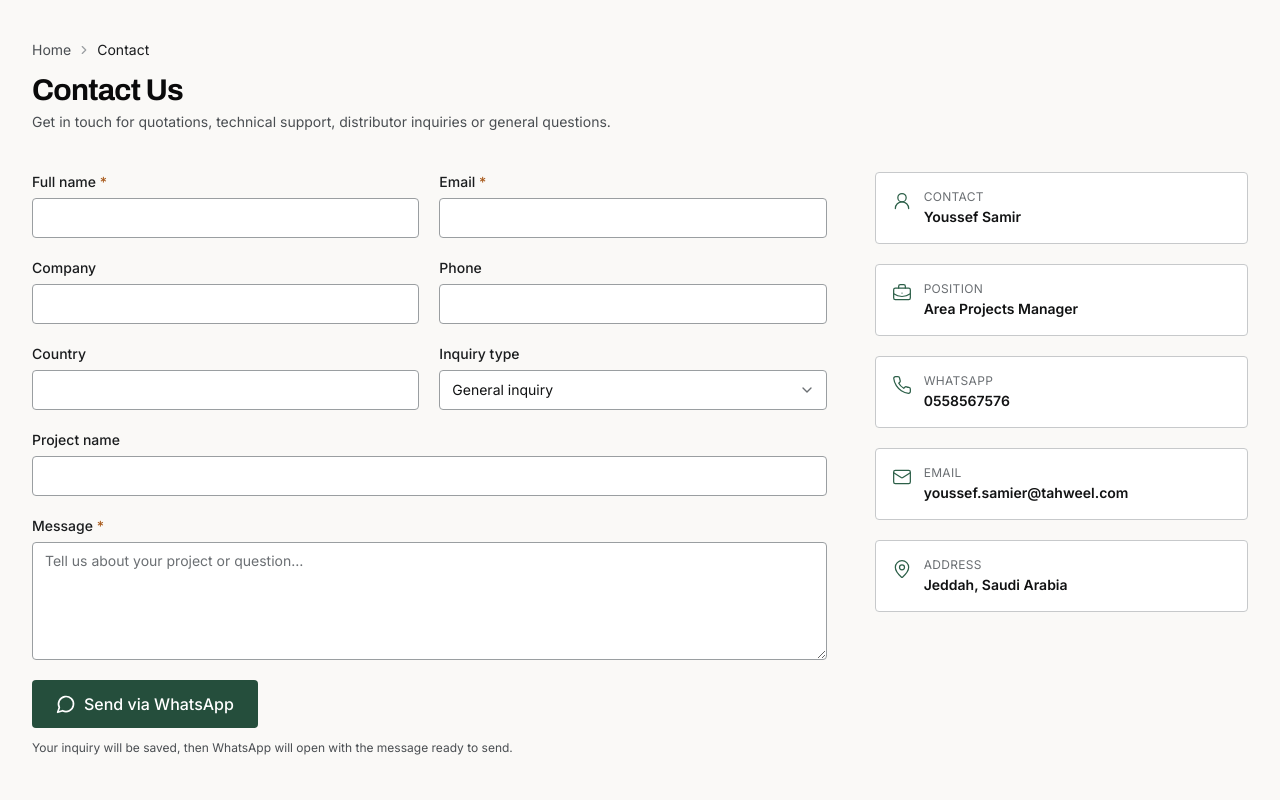
Test: ContactPage form validation › rejects an invalid email address
The image size is (1280, 800).
In the field labelled "Full name *": (226, 218) [32,198,419,238], type "Jane Engineer"
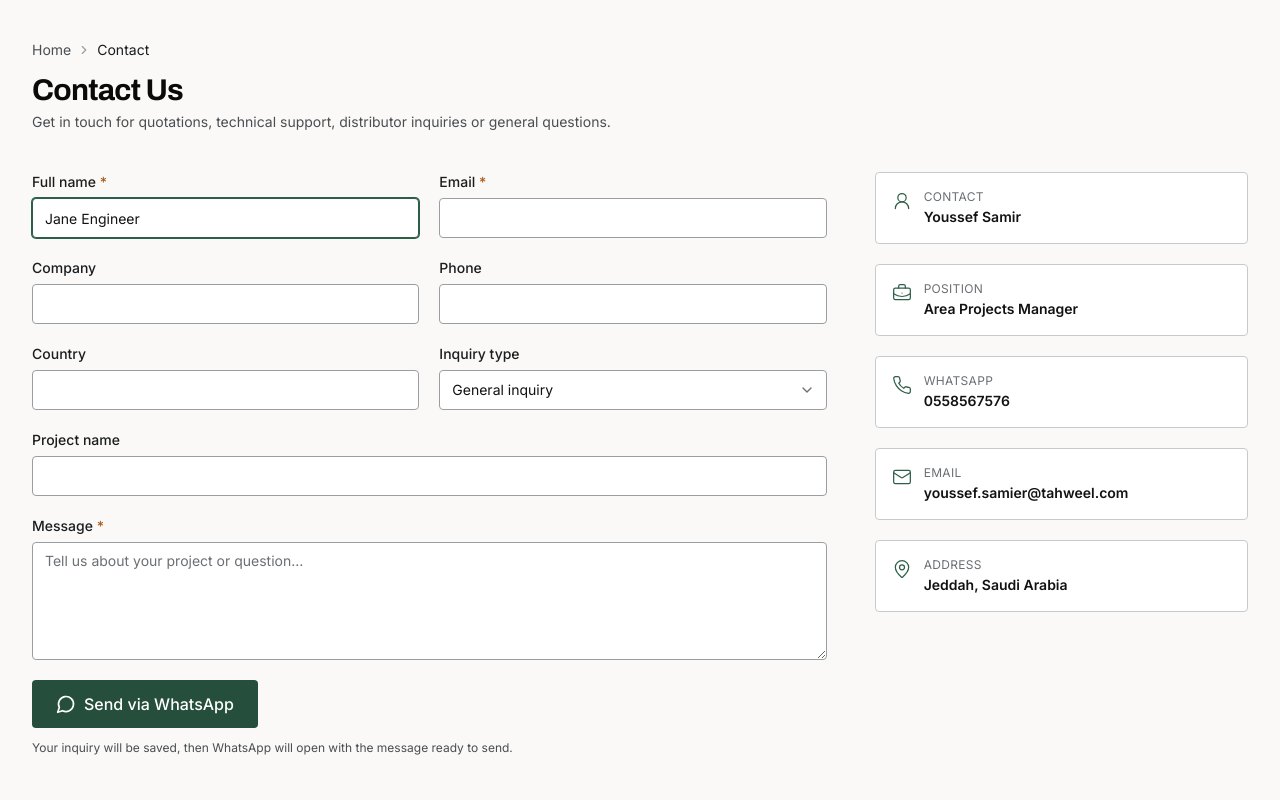
In the field labelled "Email *": (633, 218) [439,198,827,238], type "not-an-email"
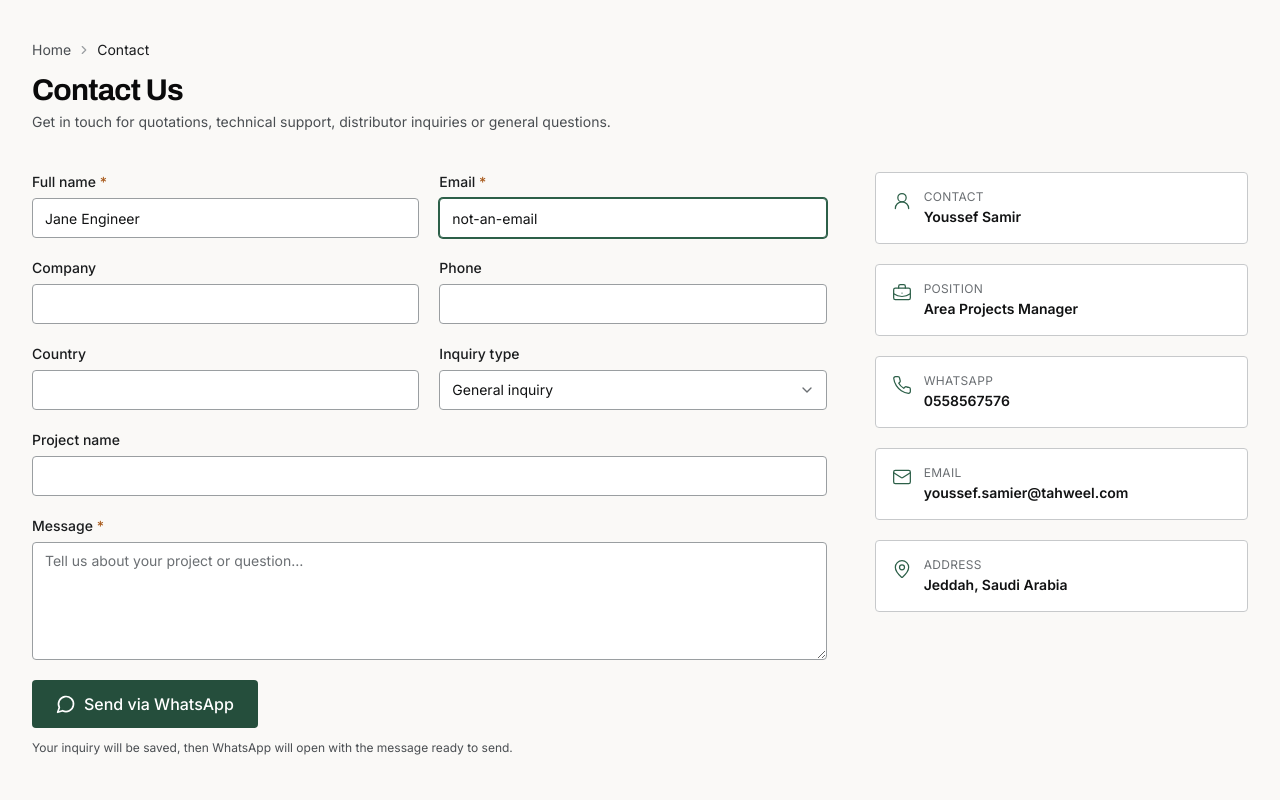
In the text box labelled "Message *": (429, 601) [32,542,827,660], type "We need pricing for a large residential project."
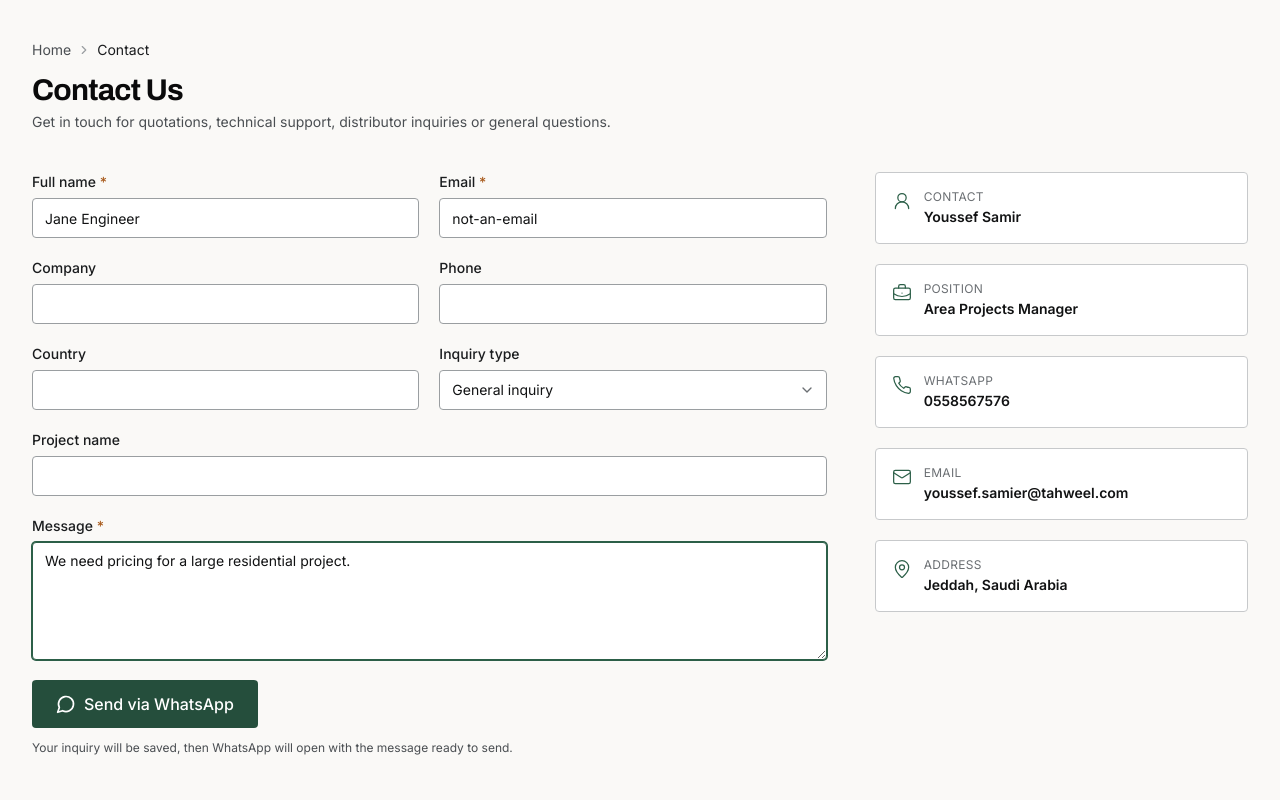
Click the button "Send via WhatsApp": (145, 704) [32,680,258,728]
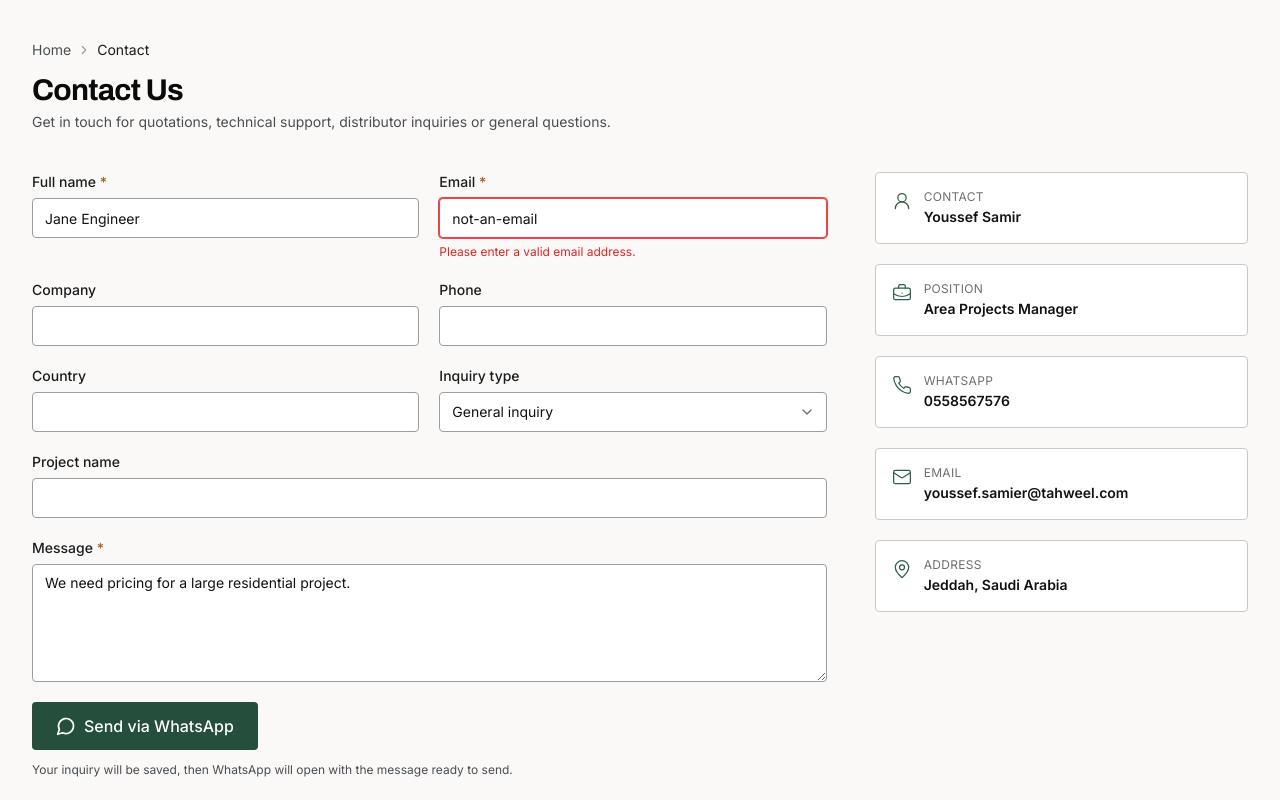
Result: the text "Please enter a valid email address." is shown at [439,244,636,259]
